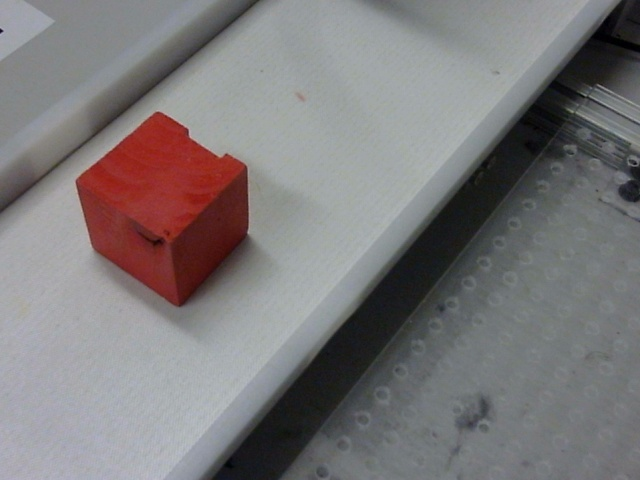RedBlock: (75, 111, 251, 307)
